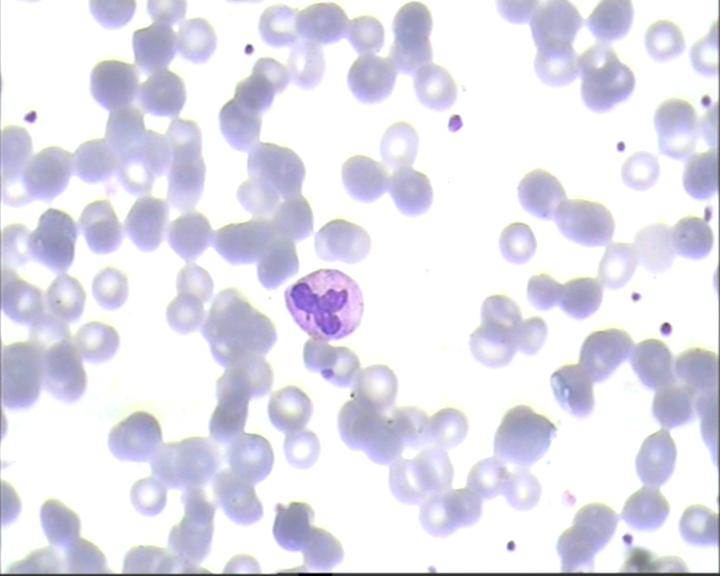neut: (283, 264, 371, 343)
